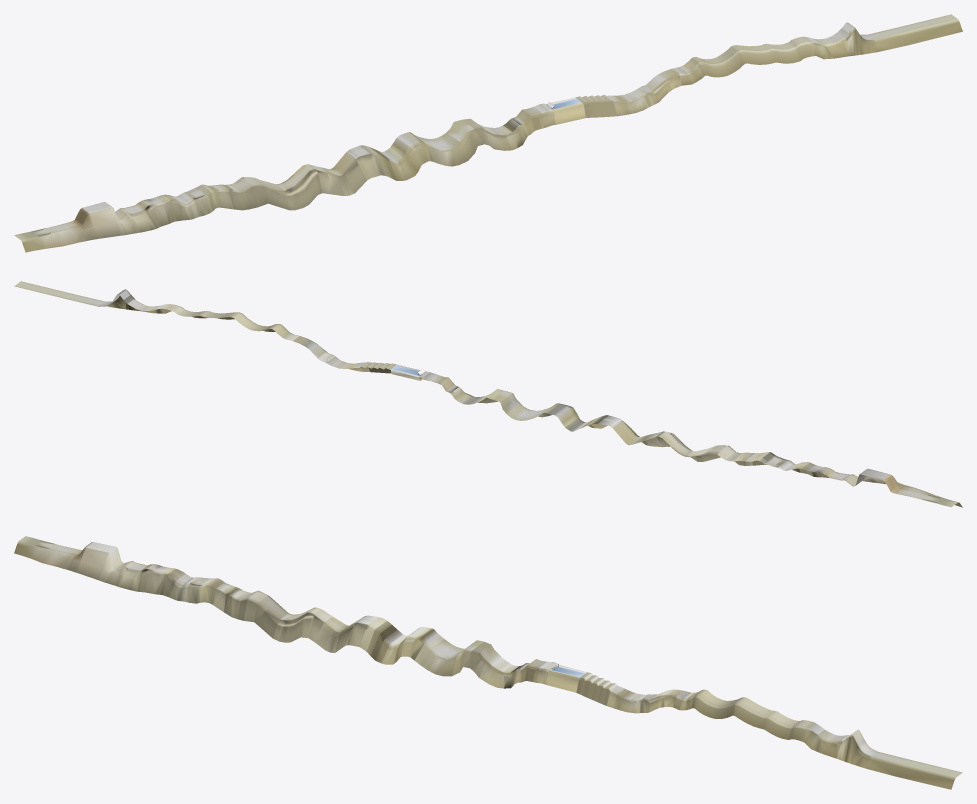
The model's file is Beach_04.fbx.
3 views of the same model, one above another, from view 1: azimuth 30°, elevation 25°; view 2: azimuth 150°, elevation 25°; view 3: azimuth 330°, elevation 25° (orthographic).
Visible parts, largest first — view 1: polySurface14; view 2: polySurface14; view 3: polySurface14.
Part boxes in pixels (x1,y1,x2,y2): polySurface14: (14,14,962,252); polySurface14: (14,281,962,507); polySurface14: (14,536,962,789).
Size of the model in its own units: 909 by 41.2 by 39.72.
